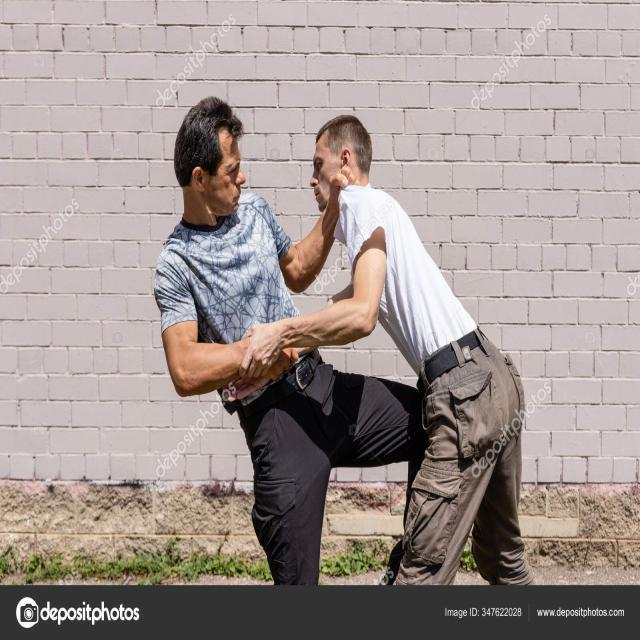fight: (102, 42, 548, 594)
